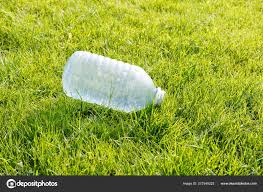plastic_bottle: (60, 49, 169, 117)
